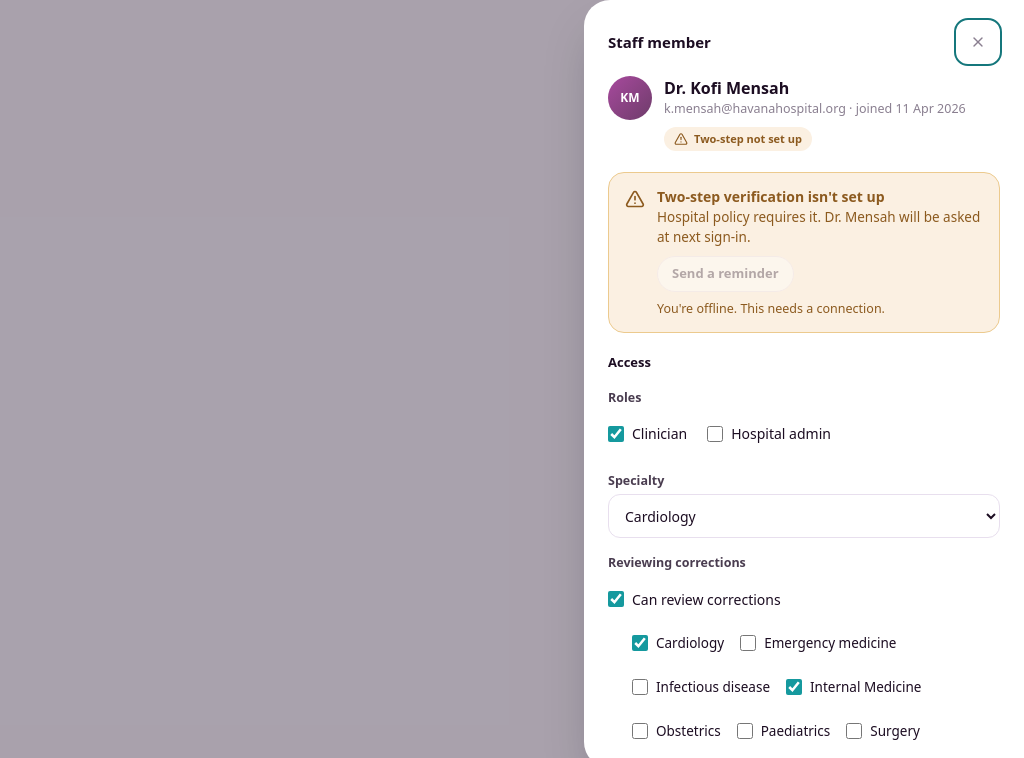
Test case: StaffPanel › can't save offline, and says so
Select "Surgery" in the dropdown labelled "Specialty" at coordinates (804, 516), box [608,494,1000,538]
(page scrolled)
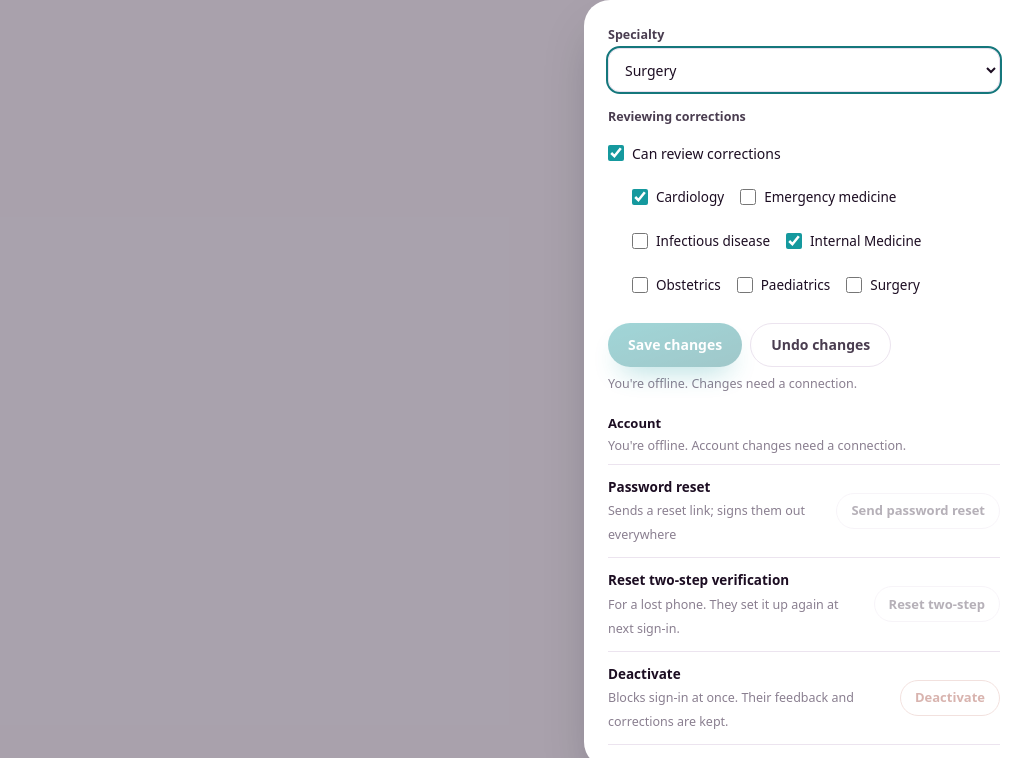
Expected: the button "Save changes" is disabled, [608,323,742,367]
Expected: the text "You're offline. Changes need a connection." is shown, [608,375,857,394]
